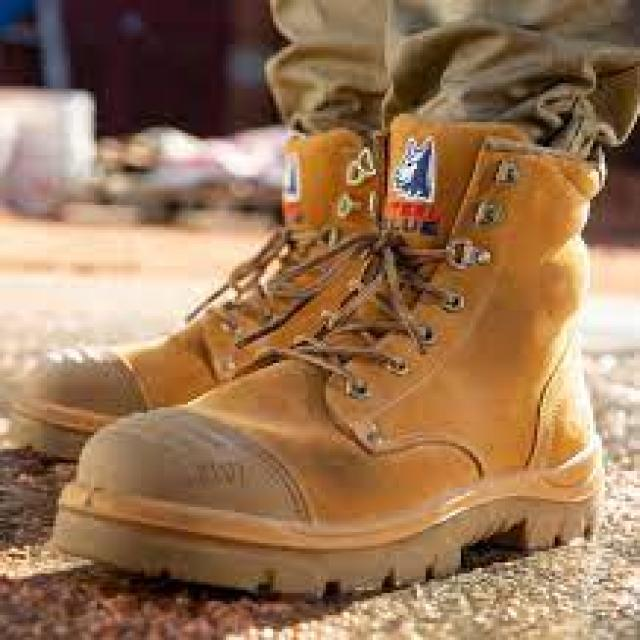shoes: (13, 116, 613, 595)
